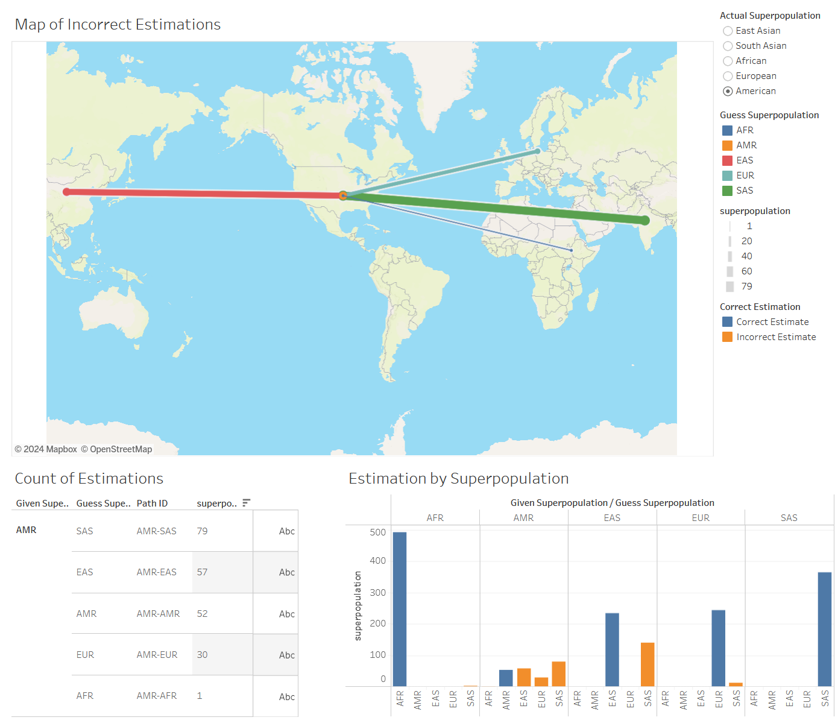

The dashboard page shown, as its layout file describes it:
{"tool":"tableau","page":{"name":"Estimations","canvas":[1116,964],"ordinal":0},"visuals":[{"type":"worksheet","title":"Map of Incorrect Estimations","mark":"Line","rows":["Latitude"],"cols":["Longitude"],"box":[8,8,940,602]},{"type":"parameter","param":"[Parameters].[Parameter 1]","box":[948,8,160,151]},{"type":"legend","title":"Map of Incorrect Estimations","param":"[federated.0kp87gu0y79ywn1h7a4jb1rpqzv5].[none:Calculation_842736127332216833:nk","box":[948,159,160,72]},{"type":"legend","title":"Map of Incorrect Estimations","param":"[federated.0kp87gu0y79ywn1h7a4jb1rpqzv5].[none:superpopulation:qk]","box":[948,231,160,156]},{"type":"legend","title":"Estimation by Superpopulation","param":"[federated.0kp87gu0y79ywn1h7a4jb1rpqzv5].[none:Calculation_842736127340589059:nk","box":[948,387,160,72]},{"type":"worksheet","title":"Count of Estimations","mark":"Automatic","rows":["Calculation_842736127338991618","Calculation_842736127332216833","Path ID","superpopulation"],"box":[8,610,443.3,346]},{"type":"worksheet","title":"Estimation by Superpopulation","mark":"Automatic","rows":["superpopulation"],"cols":["Calculation_842736127338991618","Calculation_842736127332216833"],"box":[451.3,610,656.7,346]}]}

Visuals, with their boxes in screenshot pixels (x1, y1, x2, y2), scaled from the page's 1116x964 canvas onto the 835x720 screenshot:
"Map of Incorrect Estimations" worksheet (Line marks): Rect(6, 6, 709, 456)
parameter: Rect(709, 6, 829, 119)
"Map of Incorrect Estimations" legend: Rect(709, 119, 829, 173)
"Map of Incorrect Estimations" legend: Rect(709, 173, 829, 289)
"Estimation by Superpopulation" legend: Rect(709, 289, 829, 343)
"Count of Estimations" worksheet: Rect(6, 456, 338, 714)
"Estimation by Superpopulation" worksheet: Rect(338, 456, 829, 714)
